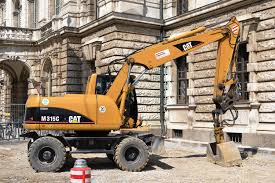excavator: (24, 16, 249, 173)
